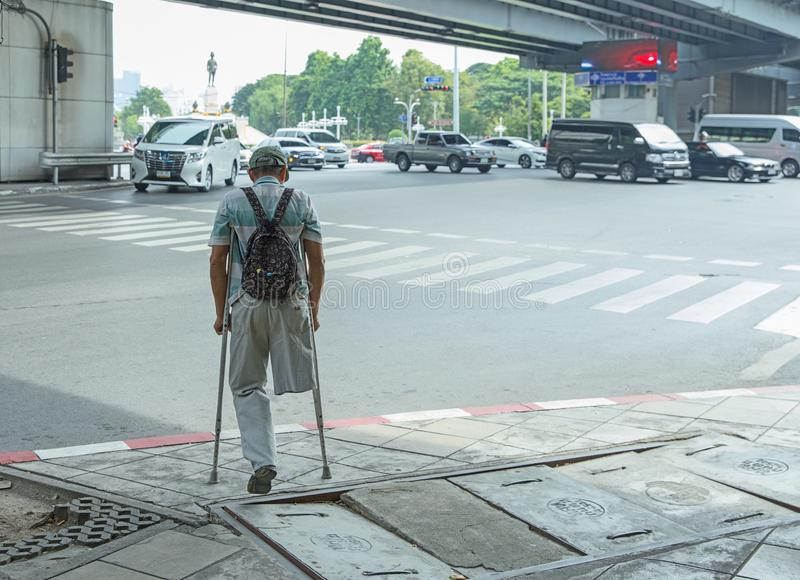crutches: (209, 145, 332, 494)
